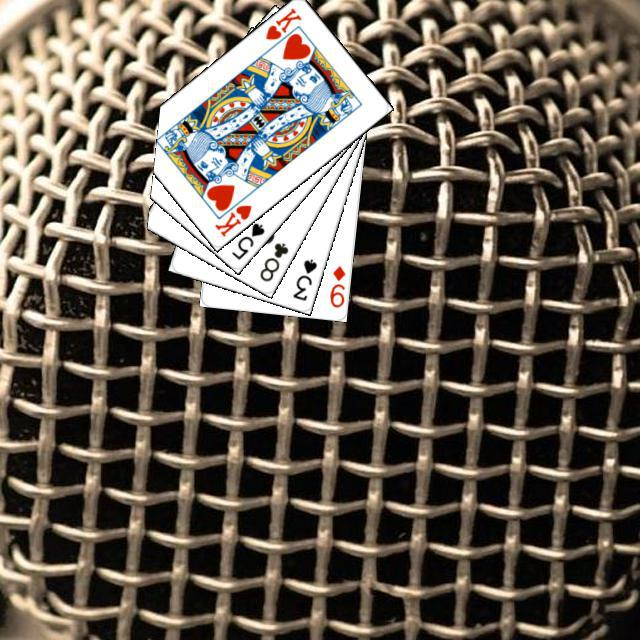3s: (288, 254, 319, 302)
5s: (226, 218, 266, 261)
8c: (255, 238, 290, 283)
9d: (325, 261, 347, 309)
Kh: (210, 190, 253, 238), (260, 3, 303, 42)
